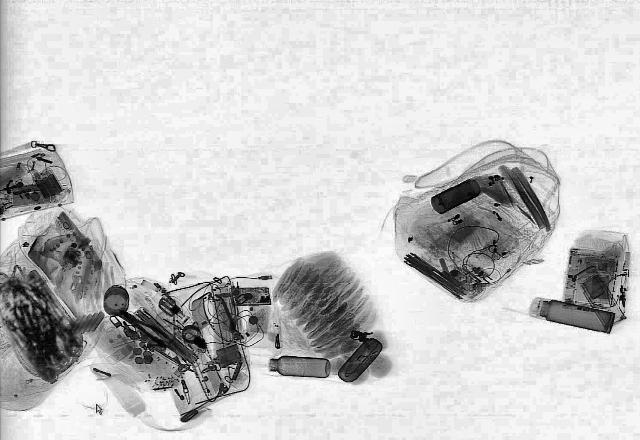Pliers: (112, 308, 178, 348)
